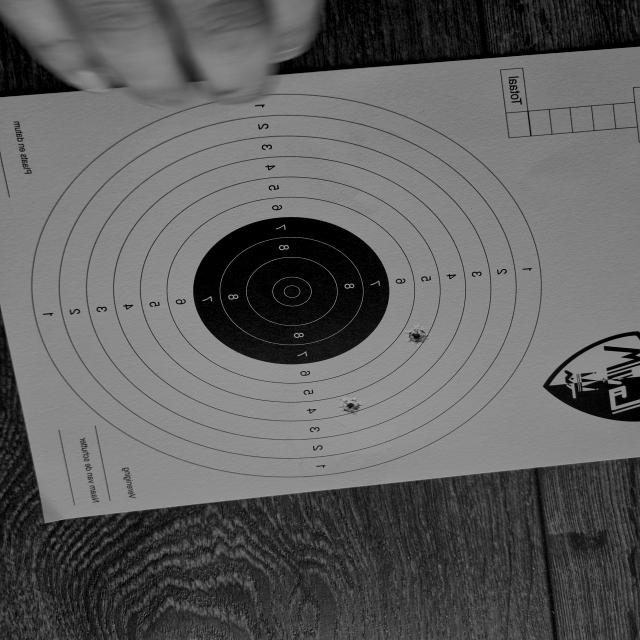4: (338, 400, 363, 412)
5: (406, 329, 428, 344)
Target: (28, 93, 543, 480)
black_contour: (192, 217, 390, 364)
